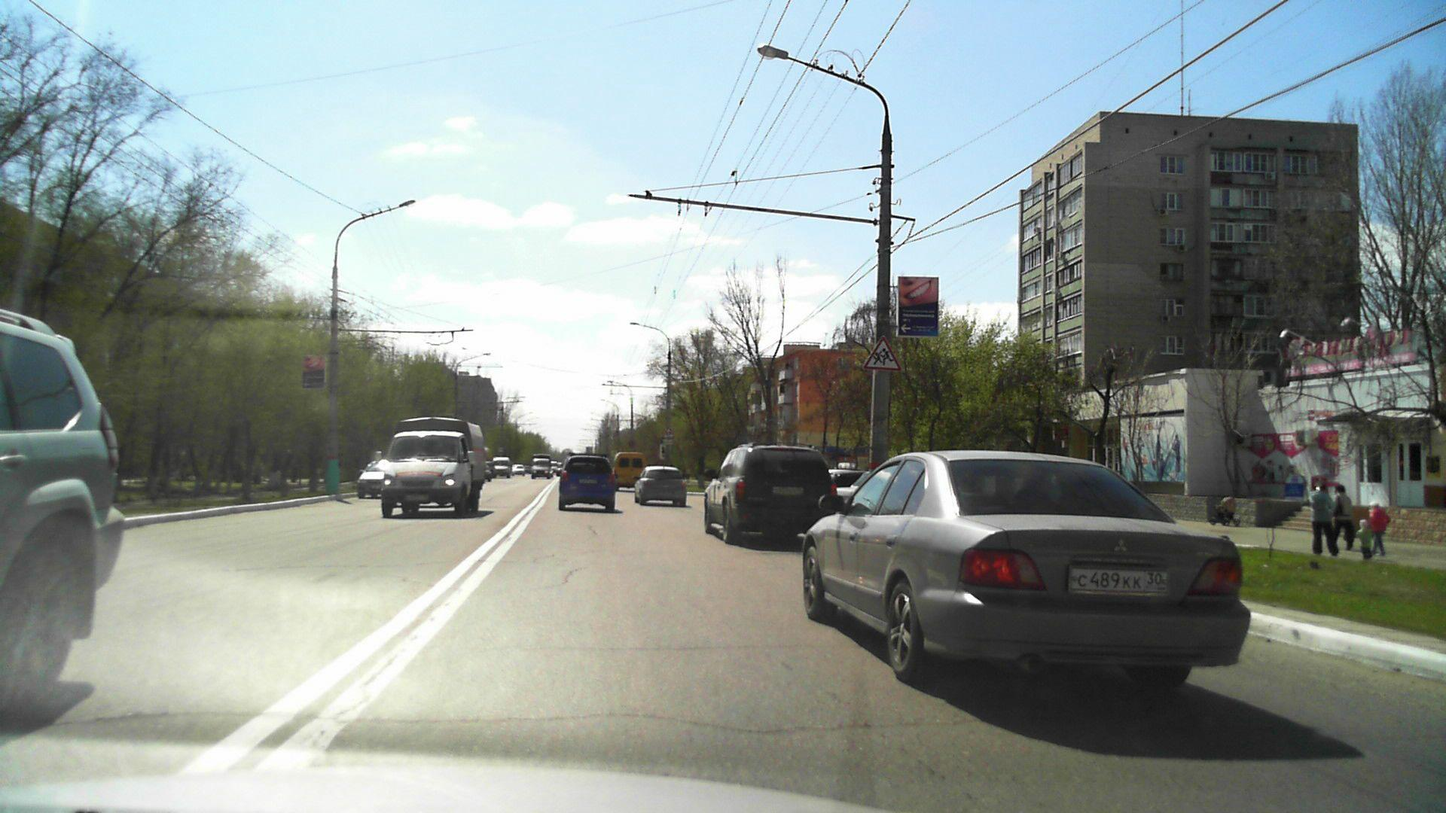road_sign: (861, 331, 905, 372)
